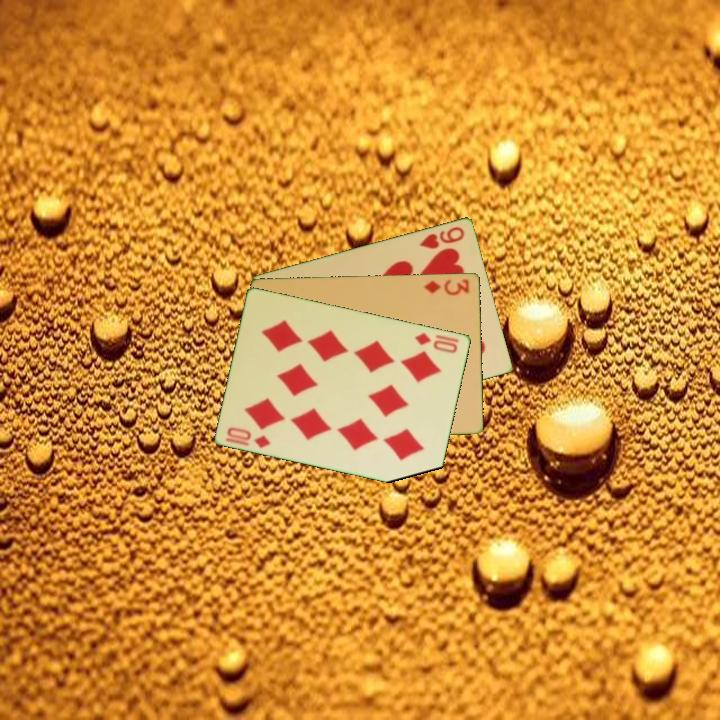10d: (412, 328, 462, 356), (224, 423, 274, 451)
3d: (421, 275, 472, 298)
9h: (416, 223, 467, 251)
